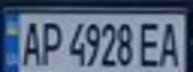2: (100, 19, 121, 67)
4: (63, 18, 84, 68)
8: (115, 19, 139, 69)
9: (81, 19, 103, 67)
A: (154, 18, 187, 69), (15, 18, 45, 68)
E: (136, 18, 163, 69)
P: (36, 17, 66, 68)
